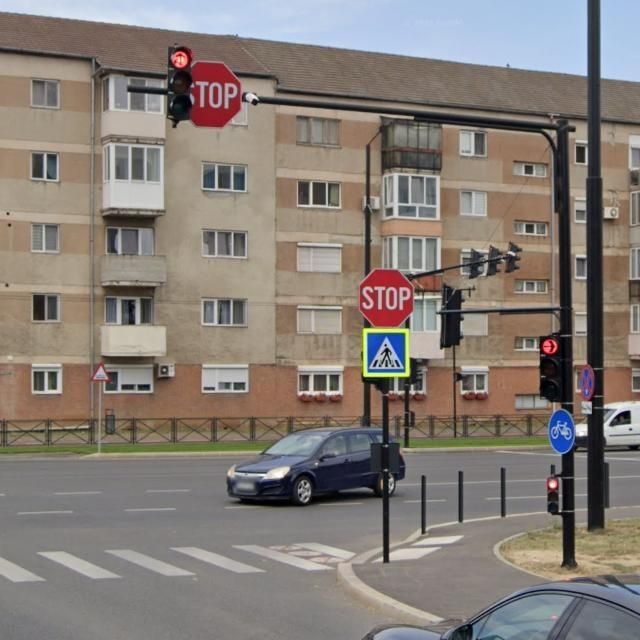forb_waiting: (468, 380, 521, 481), (579, 364, 595, 401)
info_crosswalk: (361, 327, 411, 379)
prio_stop: (189, 60, 242, 128), (357, 267, 415, 328)
